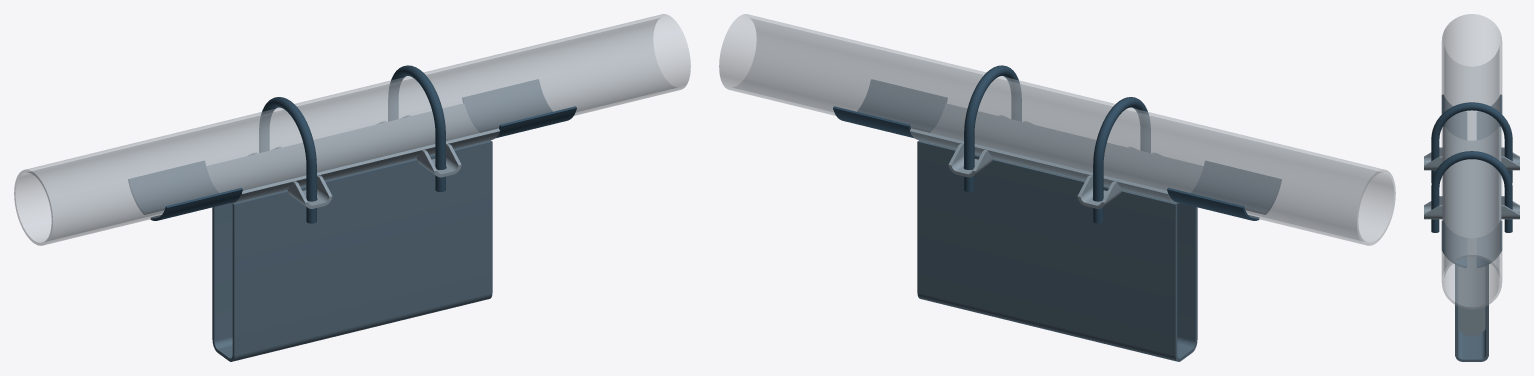
The model's file is TS-670.00.00-08-opora-dn89-H200.glb.
3 views of the same model, side by side, from view 1: azimuth 30°, elevation 25°; view 2: azimuth 150°, elevation 25°; view 3: azimuth 270°, elevation 25° (orthographic). The views are drawn at different scales.
Parts seen in each view (by area): view 1: truba, skoba_1, podushka_0, upor_-1_1, upor_1_1, homut_-1, homut_1, upor_-1_-1, upor_1_-1, ushko_5, ushko_7; view 2: truba, skoba_1, podushka_0, upor_-1_-1, upor_1_-1, homut_-1, homut_1, upor_-1_1, upor_1_1, ushko_4, ushko_6; view 3: truba, podushka_0, rebro_3, homut_1, skoba_1, homut_-1, upor_1_1, upor_1_-1, upor_-1_1, upor_-1_-1, ushko_4, ushko_5 (+2 smaller).
Part boxes in pixels (x1,y1,x2,y2): truba: [14, 14, 690, 245]; skoba_1: [212, 140, 492, 361]; podushka_0: [206, 103, 499, 203]; upor_-1_1: [128, 161, 218, 214]; upor_1_1: [462, 79, 552, 132]; homut_-1: [259, 97, 316, 223]; homut_1: [388, 65, 445, 191]; upor_-1_-1: [150, 187, 242, 220]; upor_1_-1: [496, 106, 576, 137]; ushko_5: [416, 144, 461, 177]; ushko_7: [287, 175, 332, 208]; truba: [719, 14, 1395, 245]; skoba_1: [917, 140, 1197, 361]; podushka_0: [910, 103, 1203, 203]; upor_-1_-1: [1191, 161, 1281, 214]; upor_1_-1: [857, 79, 947, 132]; homut_-1: [1093, 97, 1150, 223]; homut_1: [964, 65, 1021, 191]; upor_-1_1: [1167, 187, 1259, 220]; upor_1_1: [833, 106, 913, 137]; ushko_4: [948, 144, 993, 177]; ushko_6: [1077, 175, 1122, 208]; truba: [1441, 14, 1502, 309]; podushka_0: [1443, 127, 1500, 240]; rebro_3: [1458, 241, 1485, 335]; homut_1: [1431, 151, 1512, 232]; skoba_1: [1455, 264, 1488, 361]; homut_-1: [1431, 102, 1512, 182]; upor_1_1: [1476, 220, 1502, 268]; upor_1_-1: [1441, 220, 1467, 268]; upor_-1_1: [1477, 94, 1502, 139]; upor_-1_-1: [1441, 94, 1466, 139]; ushko_4: [1501, 196, 1519, 219]; ushko_5: [1424, 196, 1442, 219].
Bounding box in the file's own units: 840 × 303 × 141.
